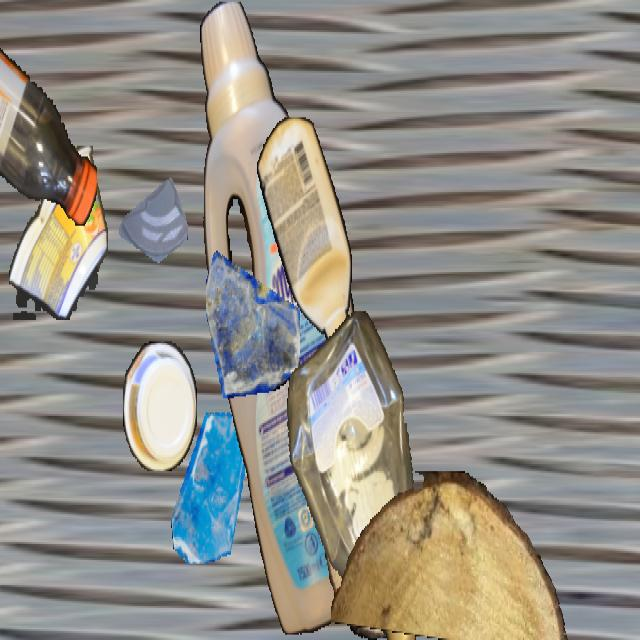glass: (206, 231, 300, 398), (169, 412, 253, 562), (119, 166, 187, 286)
metal: (321, 267, 383, 377)
plastic: (198, 2, 402, 634), (282, 311, 428, 638), (0, 2, 96, 229), (257, 117, 351, 345), (9, 146, 107, 320), (123, 342, 197, 469)
wood: (331, 471, 571, 638), (323, 450, 399, 638)
